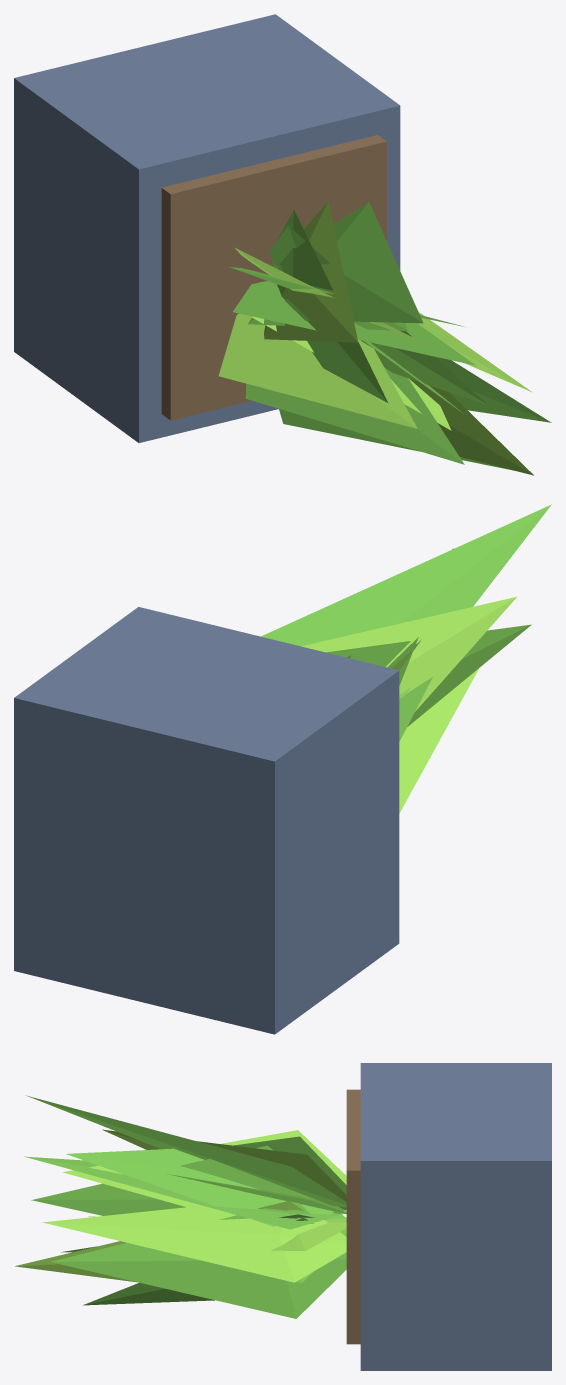
Rendered from 30_plant_large.glb.
The picture shows the model from 3 angles, top to bottom: view 1: azimuth 30°, elevation 25°; view 2: azimuth 150°, elevation 25°; view 3: azimuth 270°, elevation 25°; orthographic projection. The views are drawn at different scales.
Parts seen in each view (by area): view 1: part_1, part_2, part_12, part_5, part_13, part_6, part_7, part_11, part_8, part_15, part_16, part_18 (+4 smaller); view 2: part_1, part_5, part_6, part_12, part_7, part_11; view 3: part_1, part_18, part_16, part_10, part_5, part_8, part_2, part_11, part_6, part_9, part_14, part_15 (+3 smaller).
Boxes of the visible parts, x1,y1,x2,y2 form: part_1: (14, 14, 400, 442); part_2: (161, 135, 386, 420); part_12: (218, 313, 417, 428); part_5: (284, 202, 423, 323); part_13: (245, 367, 464, 464); part_6: (264, 201, 358, 342); part_7: (276, 210, 388, 403); part_11: (233, 281, 475, 365); part_8: (269, 225, 488, 405); part_15: (409, 378, 533, 475); part_16: (435, 356, 551, 422); part_18: (417, 312, 532, 392); part_1: (14, 607, 399, 1034); part_5: (261, 504, 551, 698); part_6: (301, 597, 516, 711); part_12: (399, 668, 479, 813); part_7: (326, 624, 531, 726); part_11: (399, 677, 432, 741); part_1: (360, 1063, 551, 1370); part_18: (42, 1205, 346, 1282); part_16: (51, 1201, 346, 1318); part_10: (66, 1148, 334, 1226); part_5: (26, 1095, 346, 1207); part_8: (31, 1145, 344, 1215); part_2: (346, 1089, 360, 1344); part_11: (24, 1156, 346, 1229); part_6: (102, 1129, 346, 1209); part_9: (62, 1130, 346, 1207); part_14: (83, 1218, 313, 1305); part_15: (15, 1201, 303, 1282).
Size of the model in its own units: 0.8625 by 0.8625 by 2.
